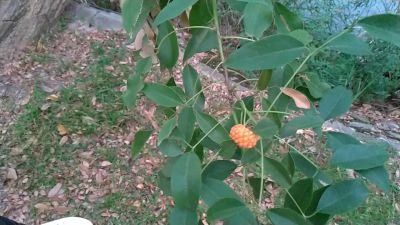eggs: (230, 119, 259, 152)
